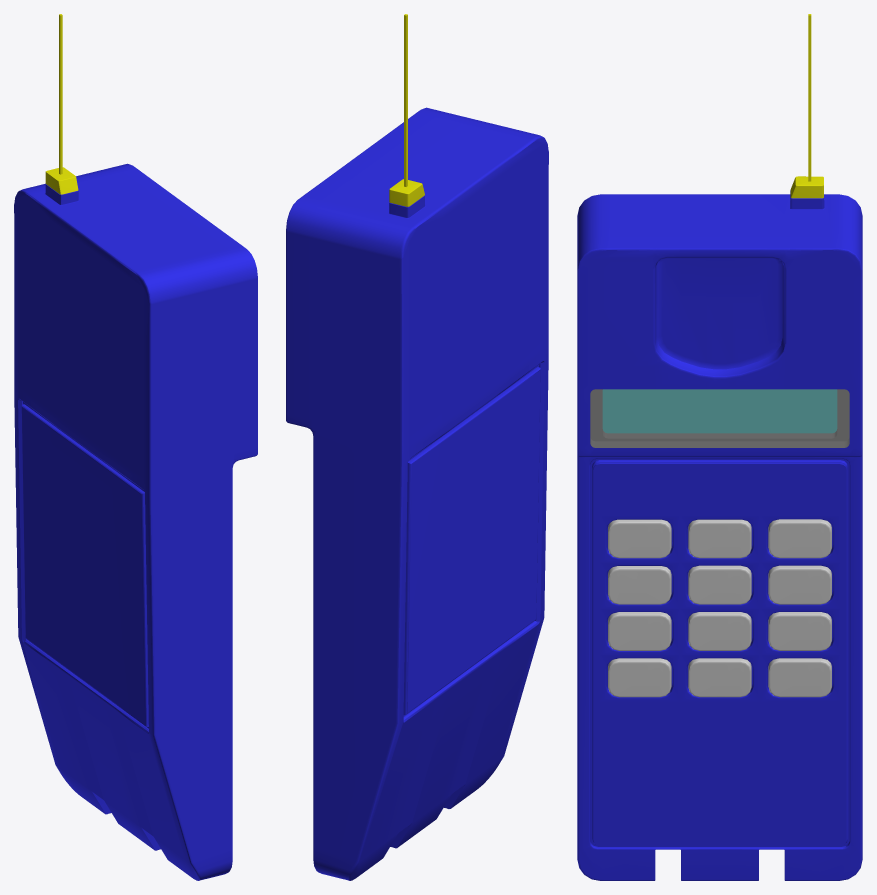
File: SM_Phone1.fbx
3 views of the same model, side by side, from view 1: azimuth 30°, elevation 25°; view 2: azimuth 150°, elevation 25°; view 3: azimuth 270°, elevation 25° (orthographic). The views are drawn at different scales.
Visible parts, largest first — view 1: SM_Phone1; view 2: SM_Phone1; view 3: SM_Phone1.
Boxes of the visible parts, box(x1,y1,x2,y2) form: SM_Phone1: box(14, 14, 257, 880); SM_Phone1: box(286, 14, 548, 880); SM_Phone1: box(577, 14, 862, 880).
Bounding box in the file's own units: 5.54 × 38.84 × 12.
